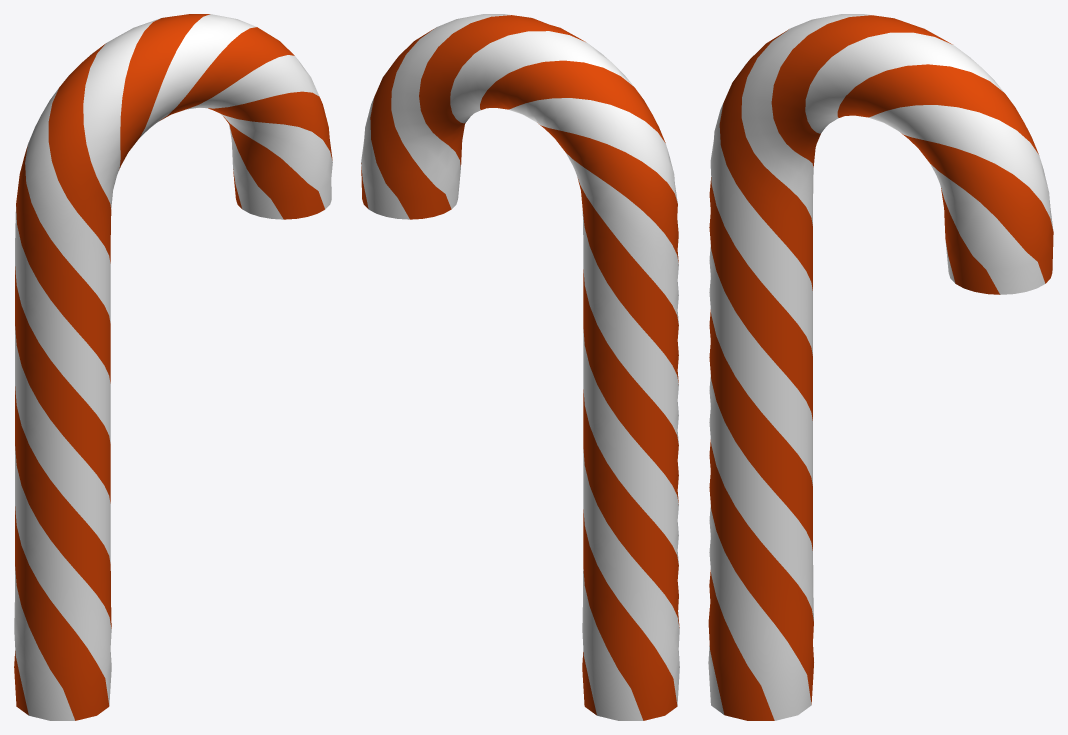
Rendered from Candy Cane_1.fbx.
3 views of the same model, side by side, from view 1: azimuth 30°, elevation 25°; view 2: azimuth 150°, elevation 25°; view 3: azimuth 330°, elevation 25° (orthographic). The views are drawn at different scales.
Visible parts, largest first — view 1: Candy Cane_1; view 2: Candy Cane_1; view 3: Candy Cane_1.
Boxes of the visible parts, left/top/right/bottom form: Candy Cane_1: left=14, top=14, right=332, bottom=720; Candy Cane_1: left=361, top=14, right=679, bottom=720; Candy Cane_1: left=708, top=14, right=1053, bottom=720.
Size of the model in its own units: 0.1251 by 0.2557 by 0.0357.
